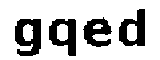d: (117, 3, 150, 53)
e: (82, 16, 115, 50)
g: (9, 14, 45, 60)
q: (46, 16, 79, 60)
